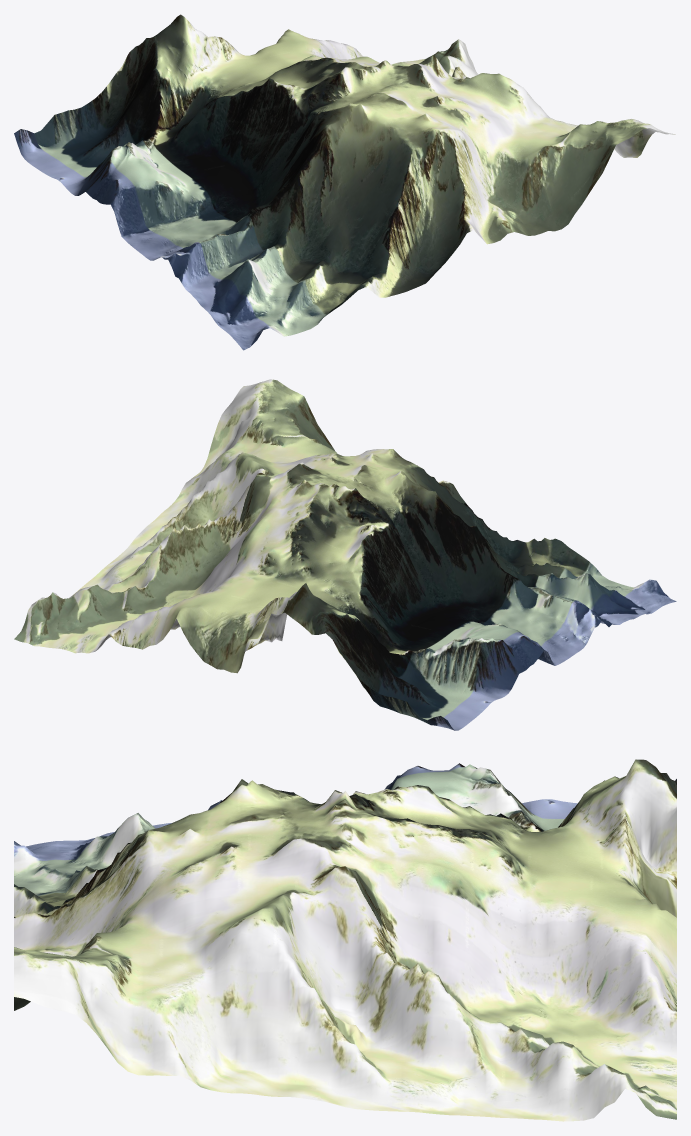
File: vinson.glb
3 renders of one model, top to bottom at view 1: azimuth 30°, elevation 25°; view 2: azimuth 150°, elevation 25°; view 3: azimuth 270°, elevation 25°, orthographic. The views are drawn at different scales.
Visible parts, largest first — view 1: EXPORT_GOOGLE_SAT_WM; view 2: EXPORT_GOOGLE_SAT_WM; view 3: EXPORT_GOOGLE_SAT_WM.
Boxes of the visible parts, left/top/right/bottom form: EXPORT_GOOGLE_SAT_WM: left=14, top=14, right=675, bottom=350; EXPORT_GOOGLE_SAT_WM: left=14, top=379, right=676, bottom=730; EXPORT_GOOGLE_SAT_WM: left=14, top=759, right=676, bottom=1121.
Bounding box in the file's own units: 17000 × 5488 × 15576.
1 material, 1 textured.
